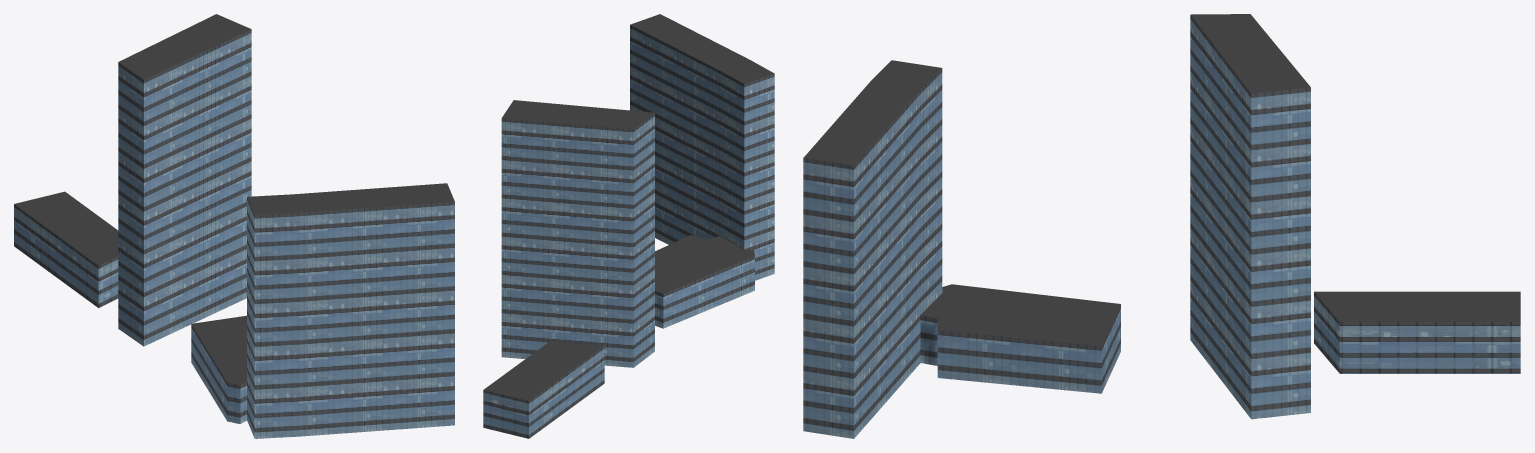
Rendered from builder_18.FBX.
3 views of the same model, side by side, from view 1: azimuth 30°, elevation 25°; view 2: azimuth 150°, elevation 25°; view 3: azimuth 270°, elevation 25° (orthographic). The views are drawn at different scales.
Parts seen in each view (by area): view 1: builder_18; view 2: builder_18; view 3: builder_18.
Boxes of the visible parts, <box> form: builder_18: <box>14,14,454,438</box>; builder_18: <box>483,14,774,438</box>; builder_18: <box>803,14,1520,438</box>.
Size of the model in its own units: 57874 by 82077 by 163760.
